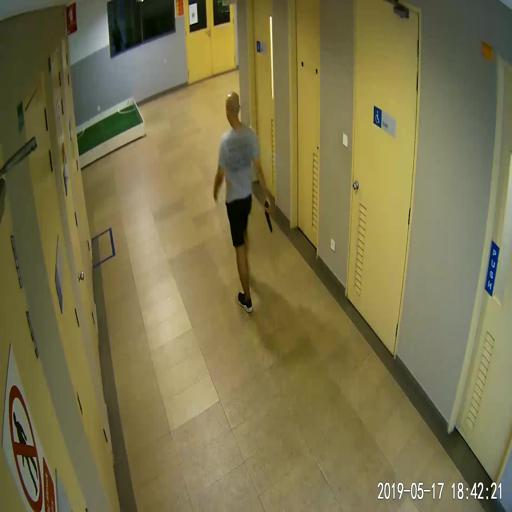pistol: (263, 199, 272, 232)
